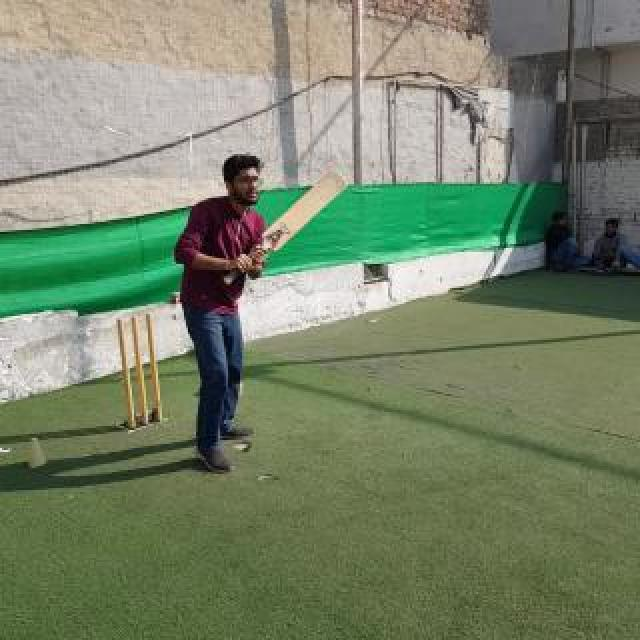bat: (222, 170, 348, 284)
